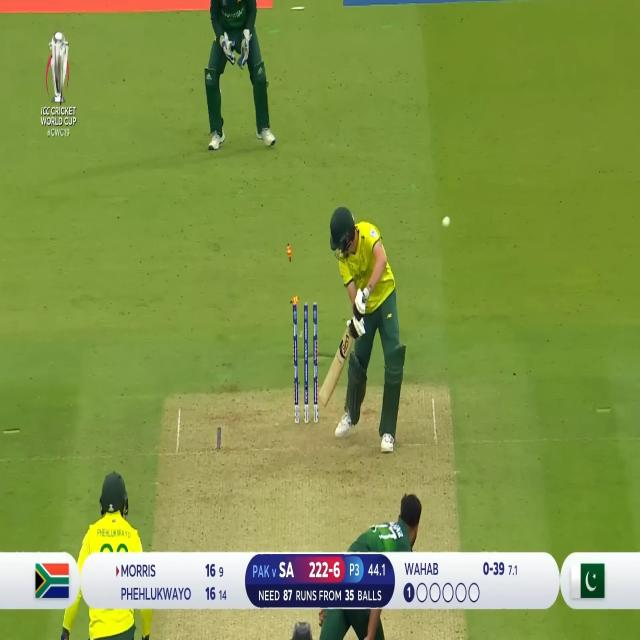ball: (442, 212, 456, 234)
